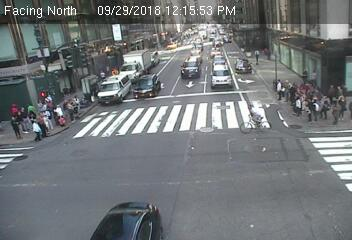car: (89, 200, 167, 239), (119, 49, 149, 83), (96, 74, 130, 101), (132, 73, 160, 97), (211, 64, 233, 89), (182, 55, 200, 78), (236, 58, 252, 73), (212, 54, 228, 64), (150, 49, 159, 66), (189, 43, 200, 55), (209, 47, 224, 55)
